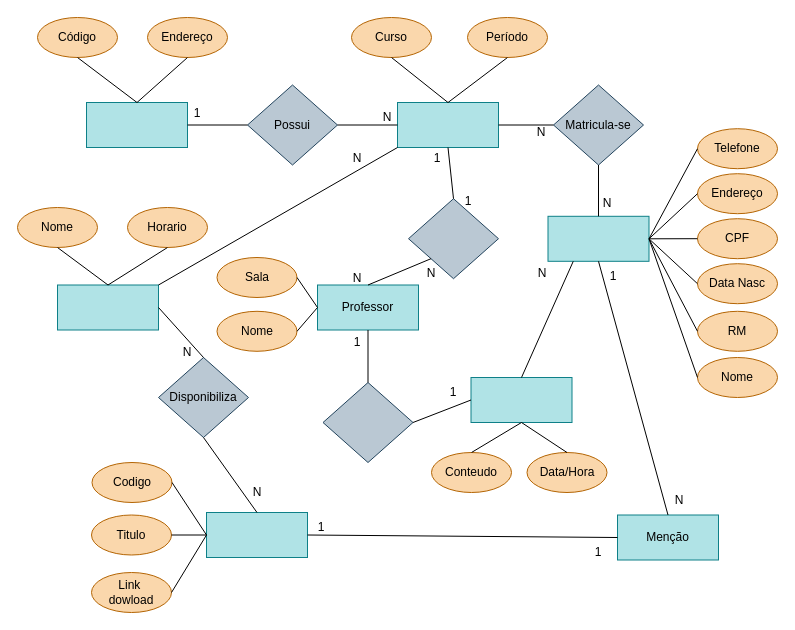
The diagram is 795 pixels wide and 630 high, and some of its shapes have lost their labels. Each missing label, with the box of its shape:
Aluno: (547, 215, 649, 261)
Bancos: (86, 102, 188, 148)
Disciplina: (56, 284, 158, 330)
Emite: (322, 382, 413, 462)
Material de Apoio: (206, 512, 308, 558)
Notificação: (470, 376, 572, 422)
Praticada: (408, 198, 498, 279)
Turma: (396, 102, 498, 148)
